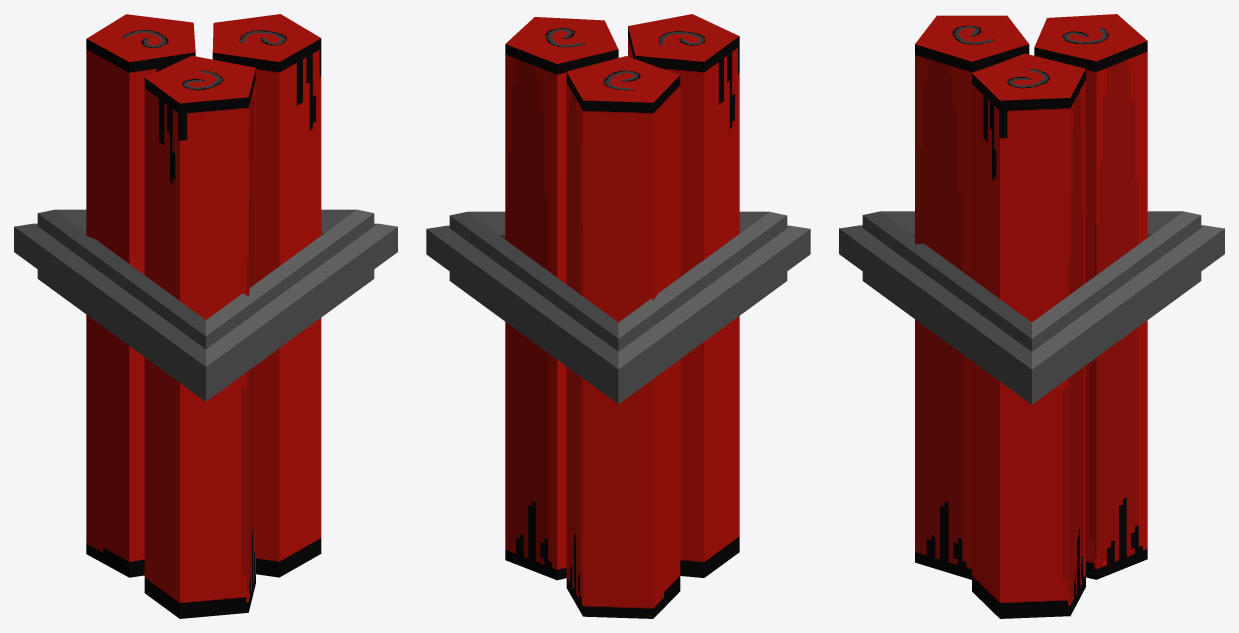
The model's file is dynamite.fbx.
3 renders of one model, left to right at view 1: azimuth 30°, elevation 25°; view 2: azimuth 150°, elevation 25°; view 3: azimuth 270°, elevation 25°, orthographic.
Visible parts, largest first — view 1: pCylinder4; view 2: pCylinder4; view 3: pCylinder4.
Boxes of the visible parts, x1,y1,x2,y2 form: pCylinder4: (14, 14, 397, 618); pCylinder4: (426, 14, 810, 618); pCylinder4: (839, 14, 1224, 618).
Size of the model in its own units: 2.82 by 4.82 by 3.25.
